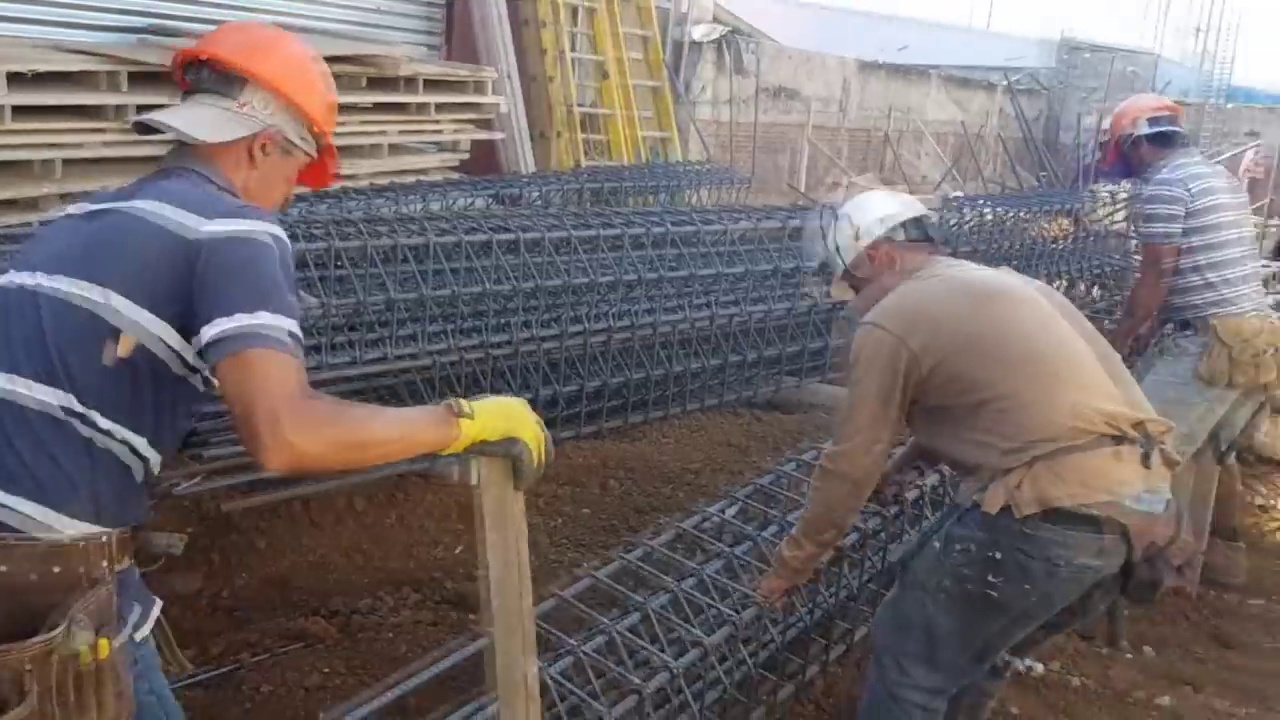helmet: (168, 29, 343, 195), (827, 186, 943, 301), (1104, 93, 1199, 163)
helmet-off: (1243, 127, 1262, 148)
helmet-on: (135, 7, 347, 213), (818, 180, 958, 324), (1102, 88, 1206, 190)
person: (5, 9, 550, 719), (769, 183, 1179, 718), (1104, 88, 1275, 591), (1237, 127, 1269, 215)
